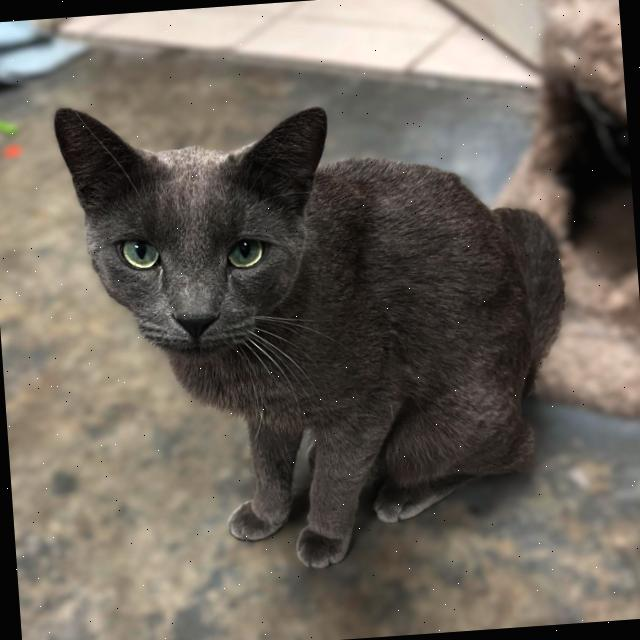russian_blue_cat: (48, 84, 350, 378)
